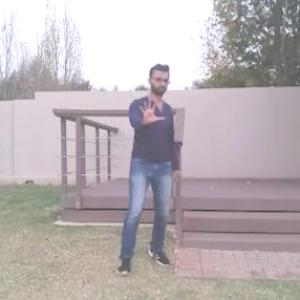follow_hand: (134, 93, 167, 131)
